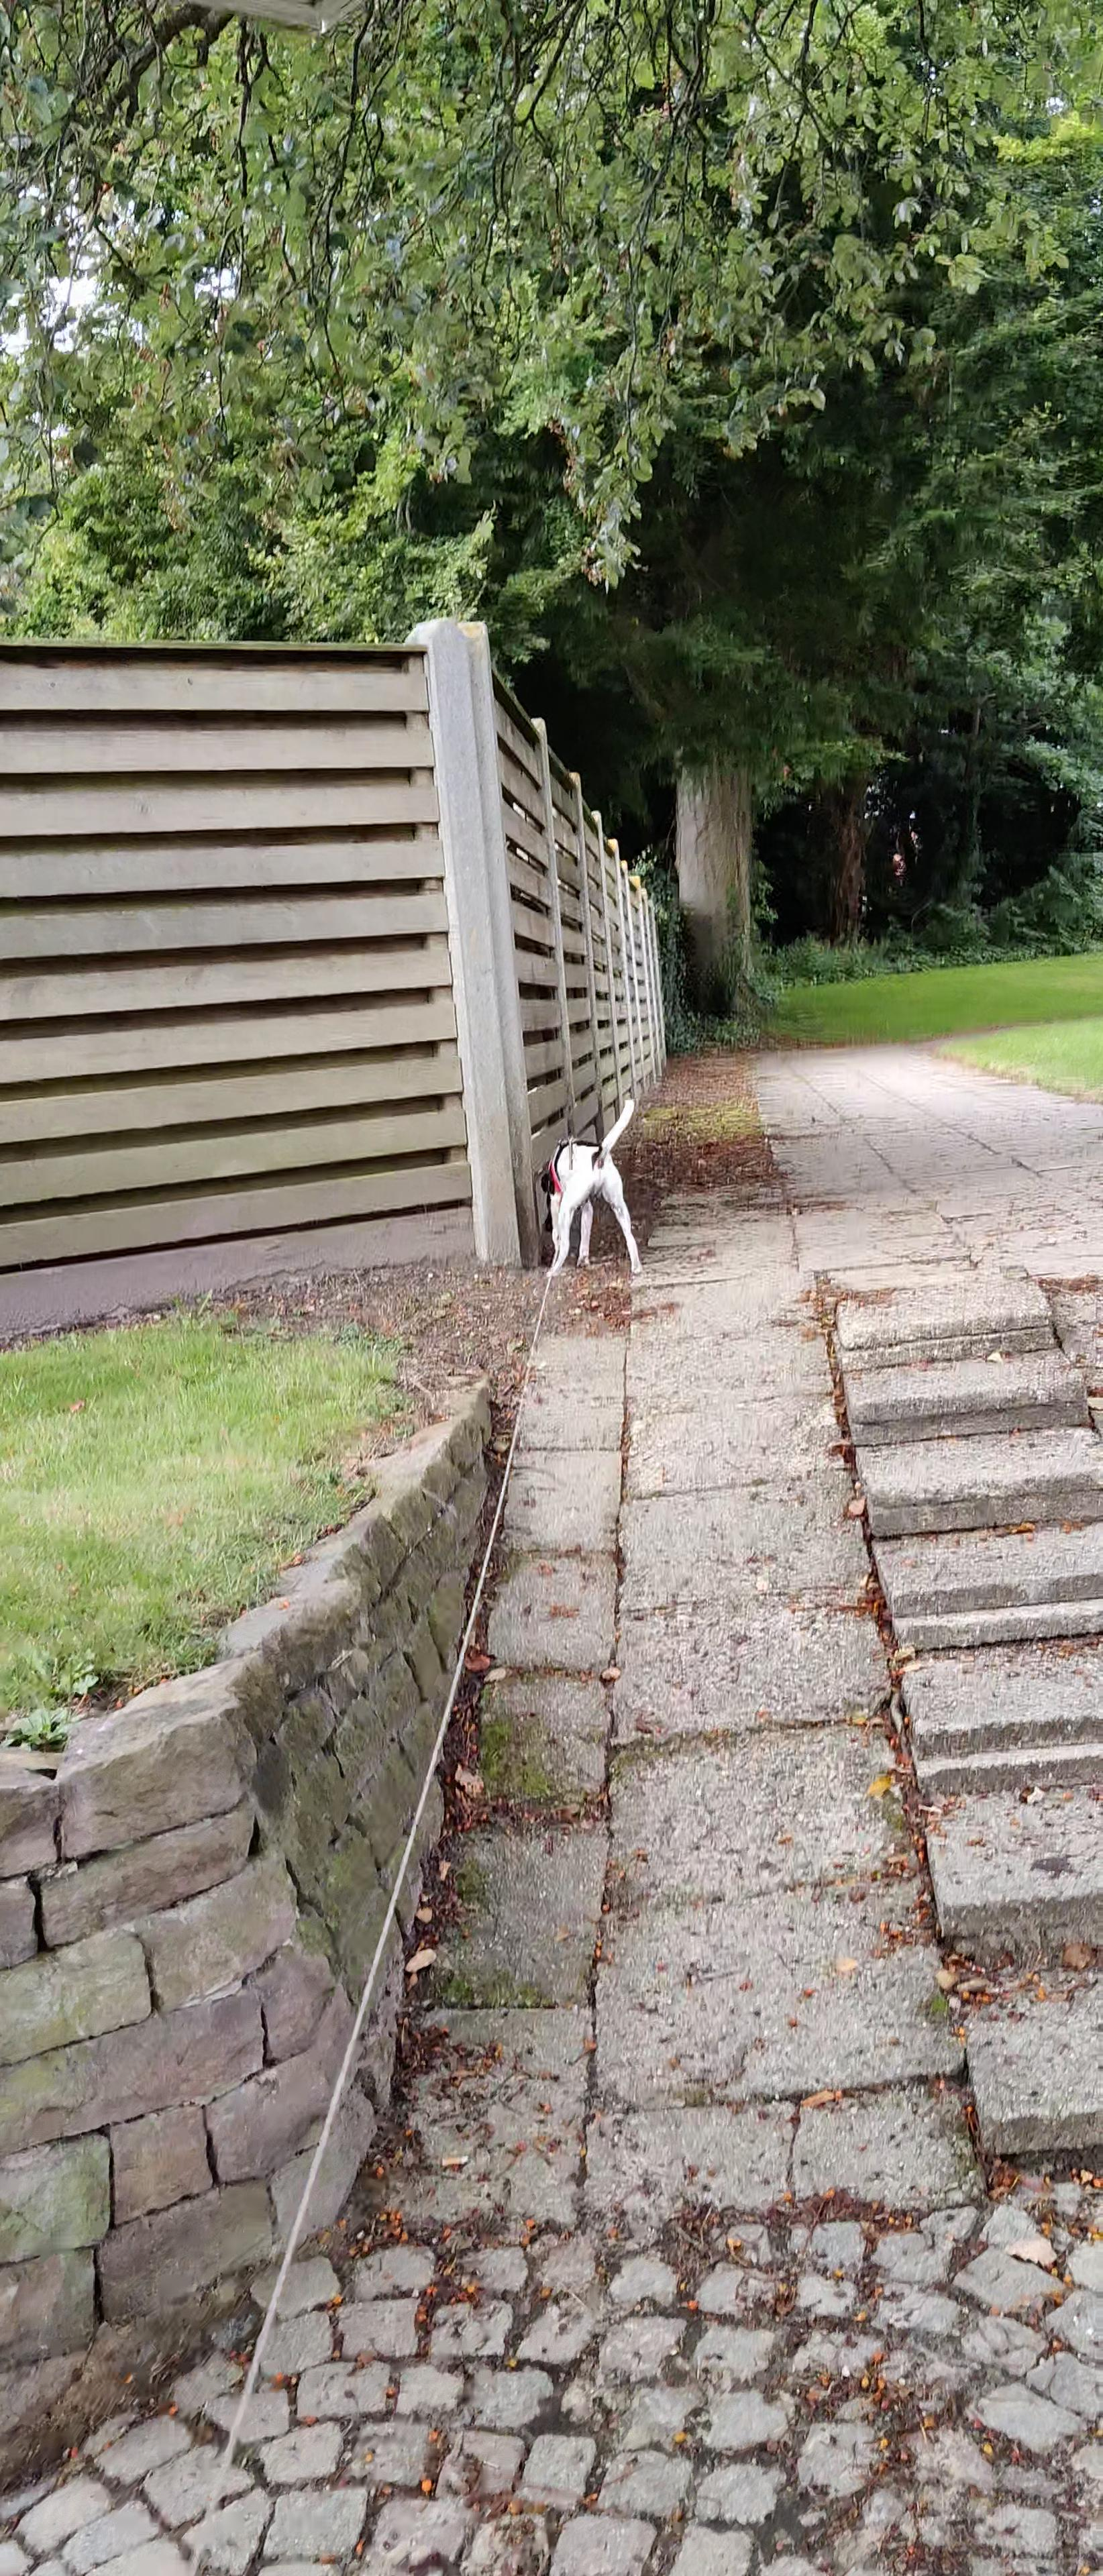Dog: (534, 1092, 646, 1278)
